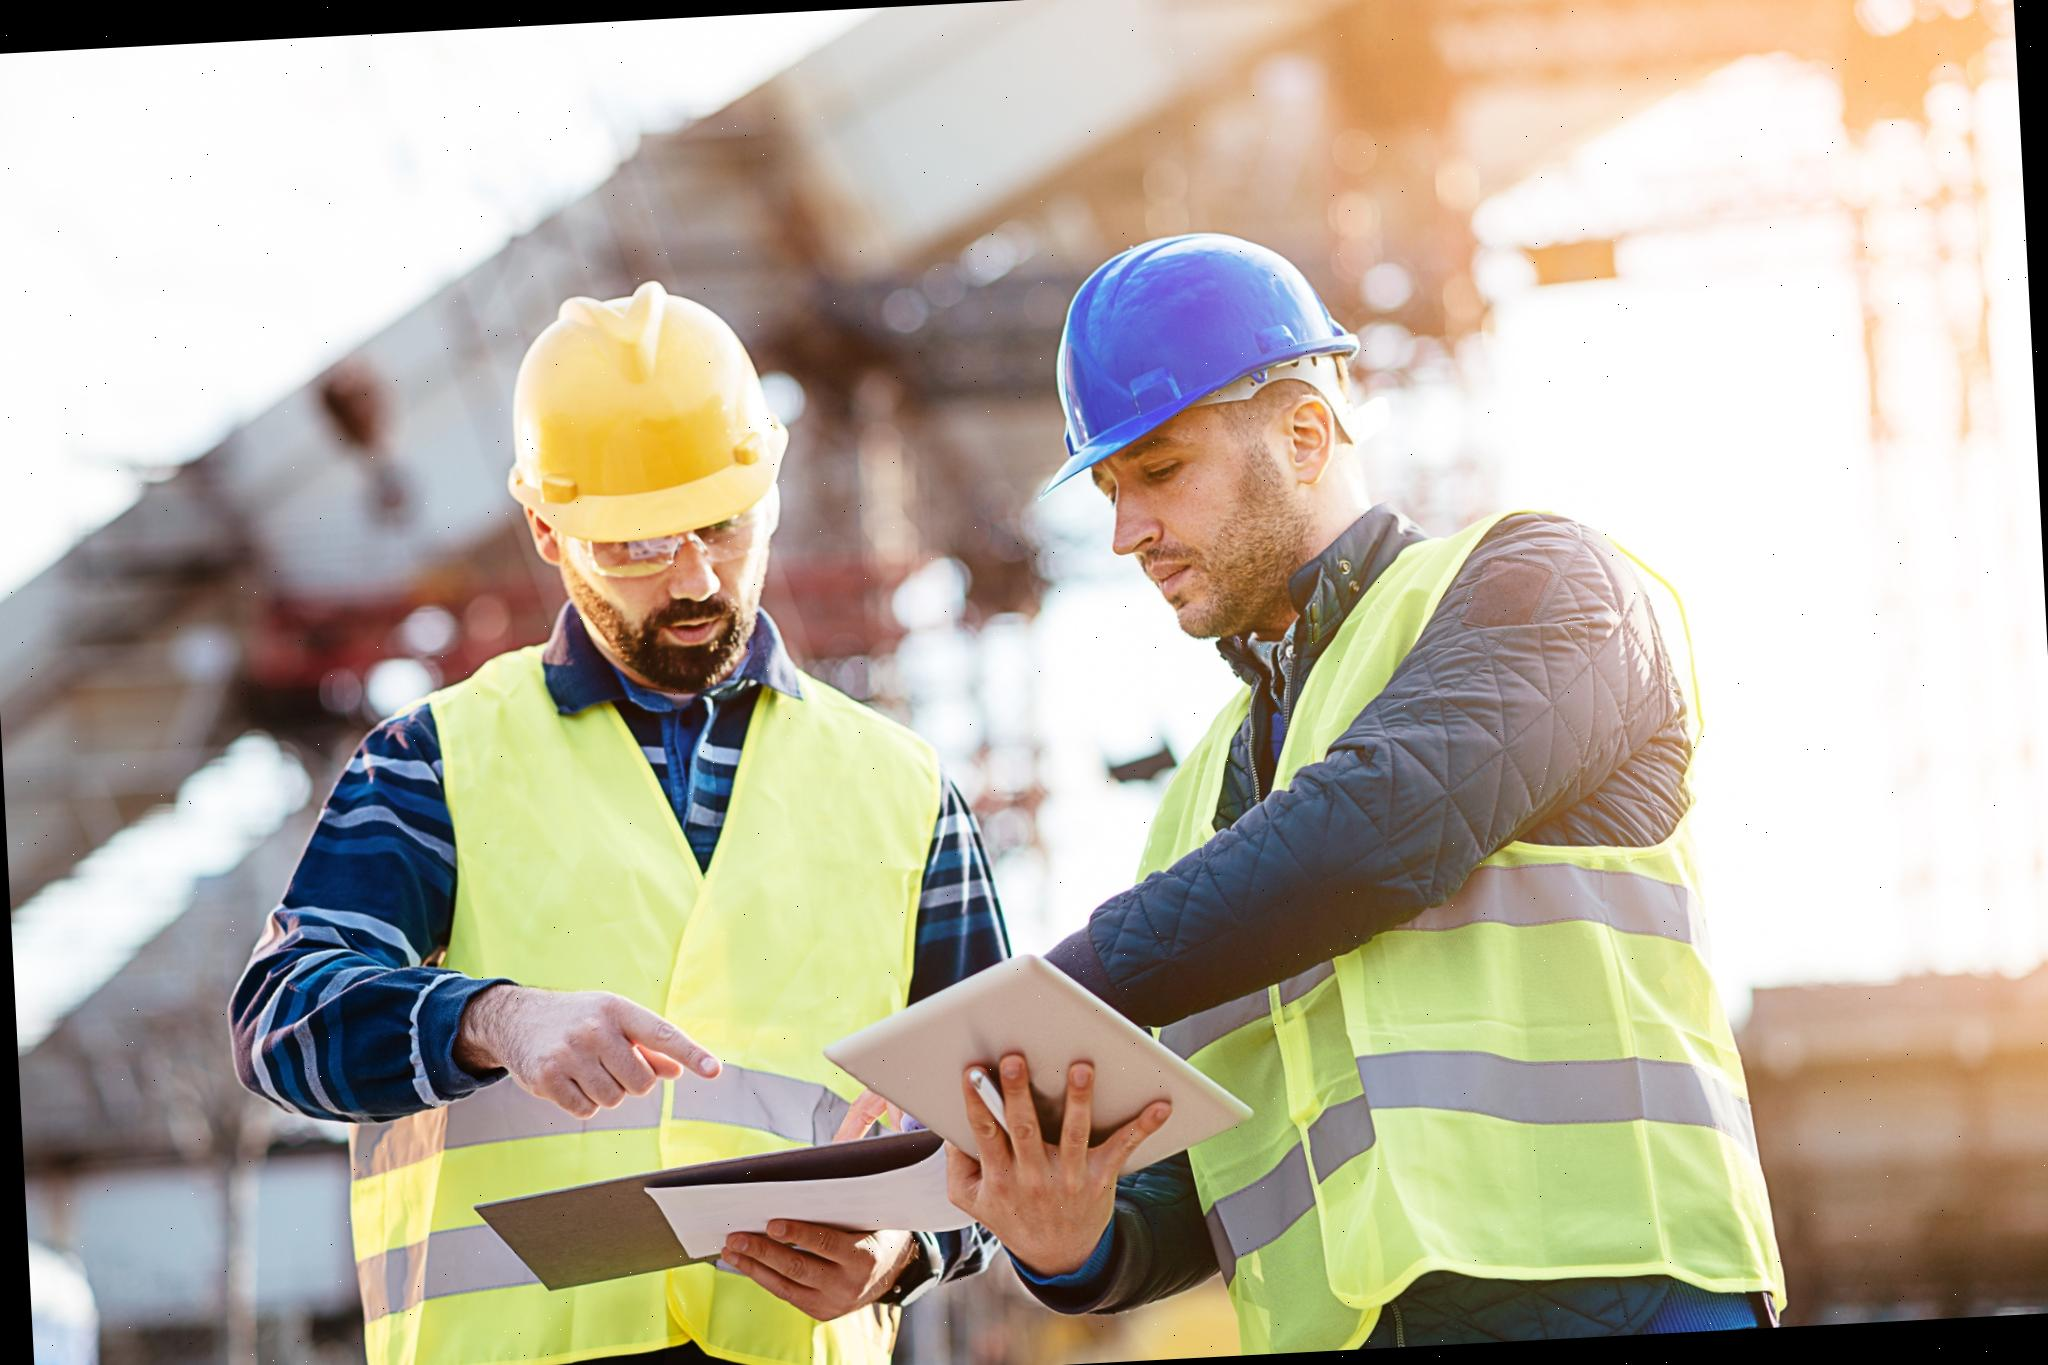helmet: (1105, 605, 1788, 1322), (1025, 219, 1366, 491), (496, 274, 798, 544)
wear: (327, 670, 973, 1365)
